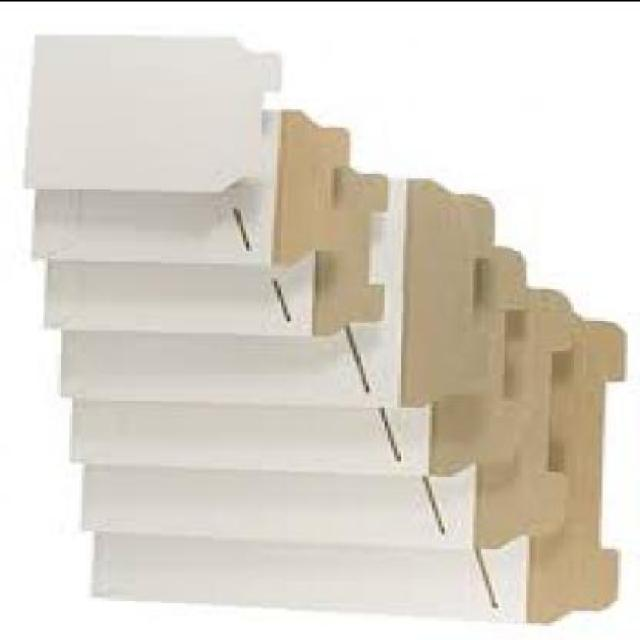CARDBOARD: (95, 321, 630, 622), (81, 288, 577, 550), (76, 244, 533, 478), (60, 182, 498, 408), (47, 167, 388, 336), (38, 110, 353, 270), (31, 36, 284, 193)
